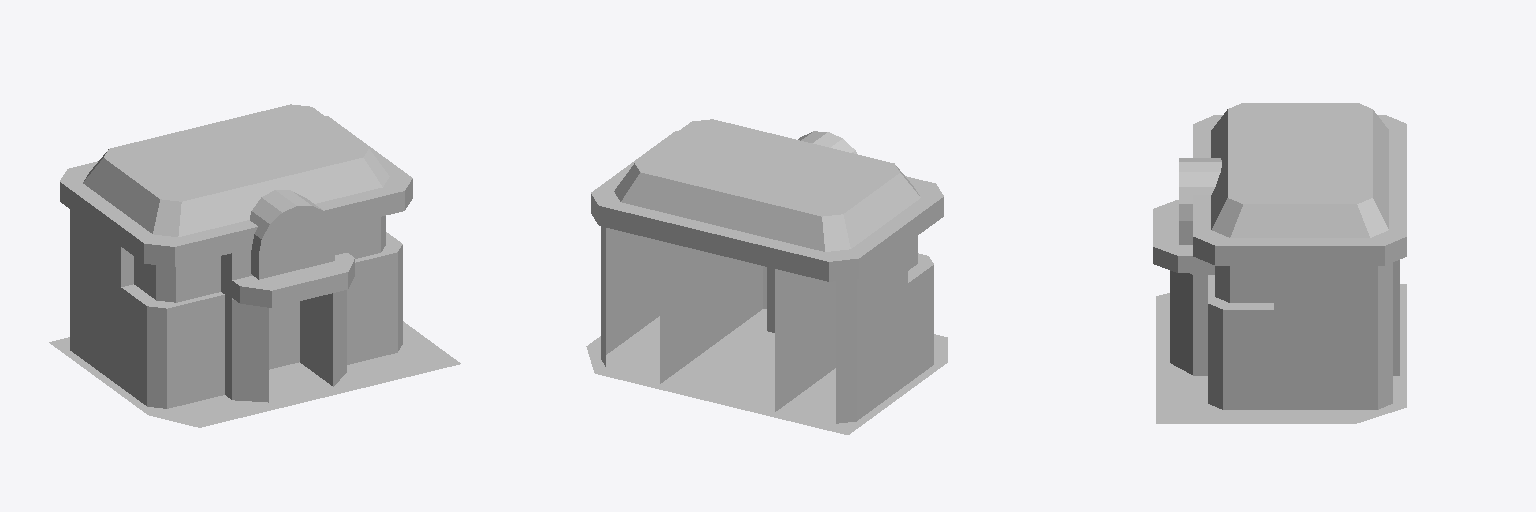
The model's file is Pokémon Center.obj.
3 views of the same model, side by side, from view 1: azimuth 30°, elevation 25°; view 2: azimuth 150°, elevation 25°; view 3: azimuth 270°, elevation 25° (orthographic).
Parts seen in each view (by area): view 1: polygon3, polygon1, polygon0, polygon2; view 2: polygon3, polygon1; view 3: polygon3, polygon1, polygon0.
Boxes of the visible parts, box(x1,y1,x2,y2) form: polygon3: box(60, 104, 412, 408); polygon1: box(49, 321, 460, 427); polygon0: box(134, 216, 385, 302); polygon2: box(266, 216, 327, 277); polygon3: box(591, 119, 943, 423); polygon1: box(586, 309, 947, 434); polygon3: box(1153, 103, 1406, 409); polygon1: box(1156, 284, 1406, 423); polygon0: box(1215, 266, 1273, 302).
Bounding box in the file's own units: 90 × 58.5 × 68.99.